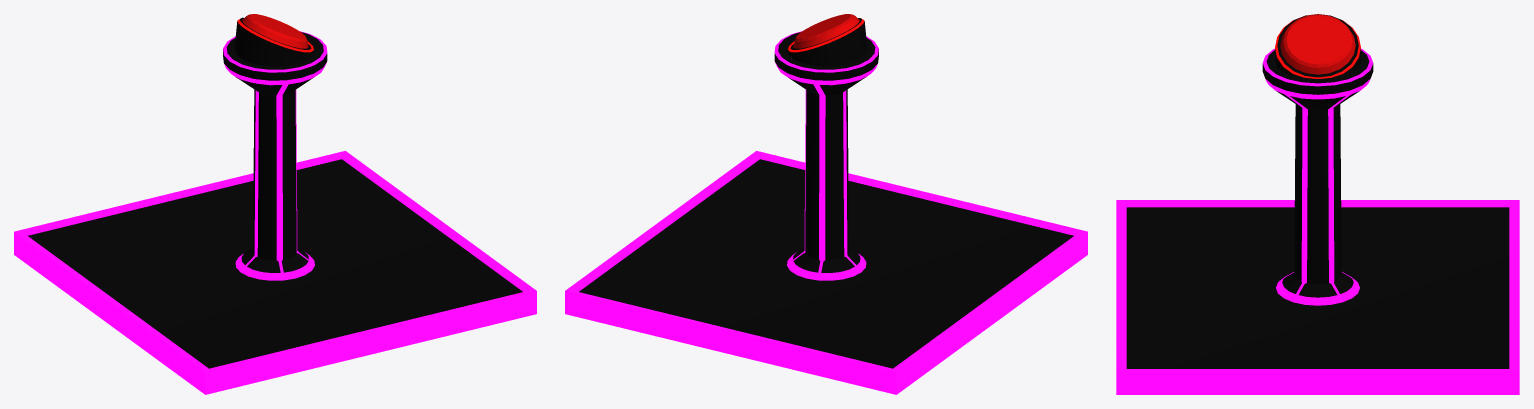
Rendered from Botao_Runtime_Verm_R00.fbx.
3 views of the same model, side by side, from view 1: azimuth 30°, elevation 25°; view 2: azimuth 150°, elevation 25°; view 3: azimuth 270°, elevation 25° (orthographic). The views are drawn at different scales.
Parts seen in each view (by area): view 1: Chao_R00:pCube1, pCylinder1; view 2: Chao_R00:pCube1, pCylinder1; view 3: Chao_R00:pCube1, pCylinder1.
Part boxes in pixels (<box>): Chao_R00:pCube1: <box>14,151,536,394</box>; pCylinder1: <box>223,14,327,280</box>; Chao_R00:pCube1: <box>565,151,1087,394</box>; pCylinder1: <box>774,14,878,280</box>; Chao_R00:pCube1: <box>1116,200,1519,394</box>; pCylinder1: <box>1262,14,1373,305</box>.
Bounding box in the file's own units: 1.03 × 0.8027 × 1.03.
